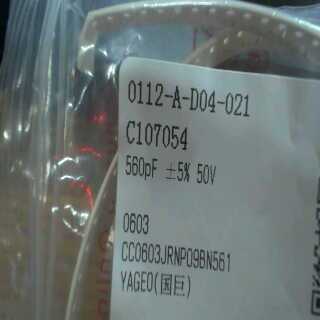560pF: (122, 151, 160, 182)
